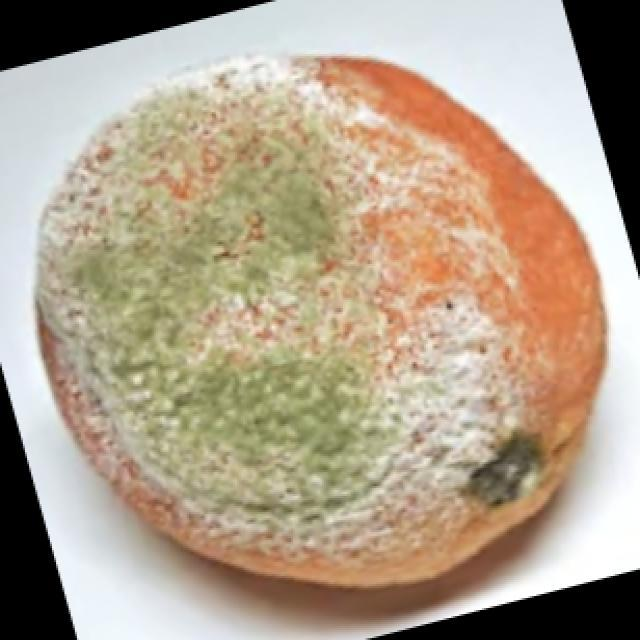sangat-busuk: (36, 56, 605, 588)
